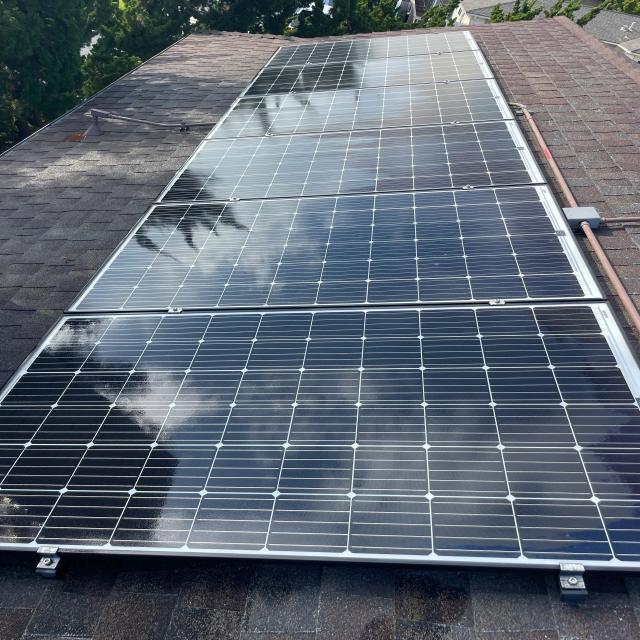clean-solar-panel: (0, 29, 640, 567)
